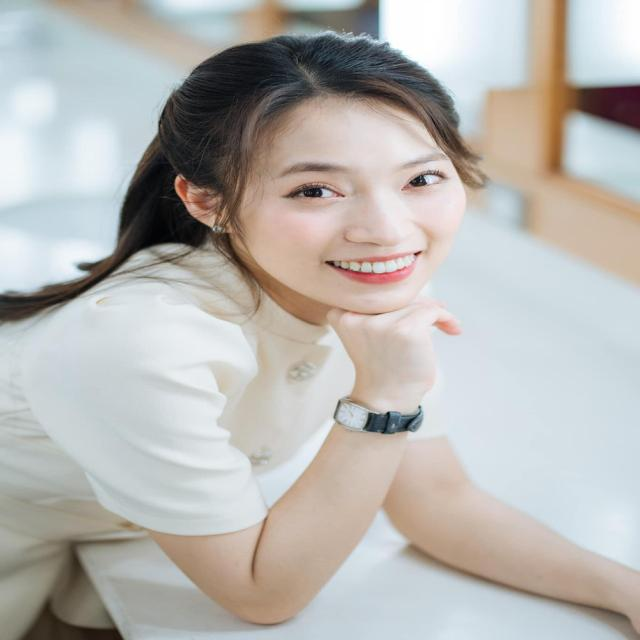Nonhelmet: (136, 29, 490, 326)
